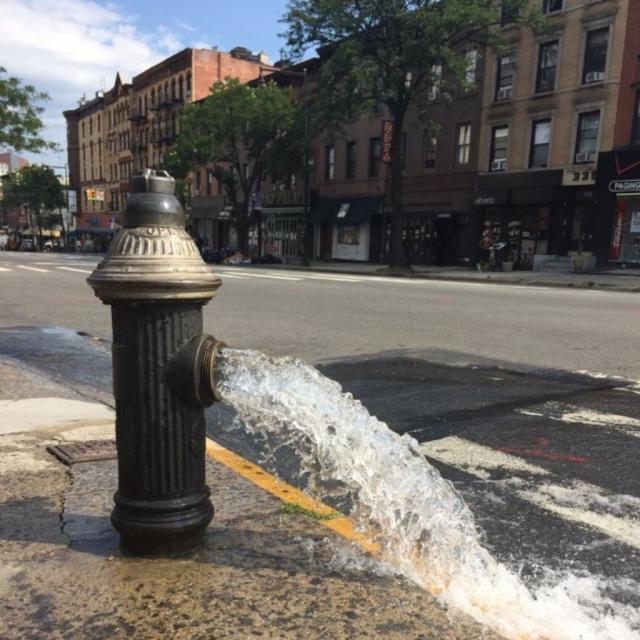fire_hydrant: (89, 165, 232, 558)
